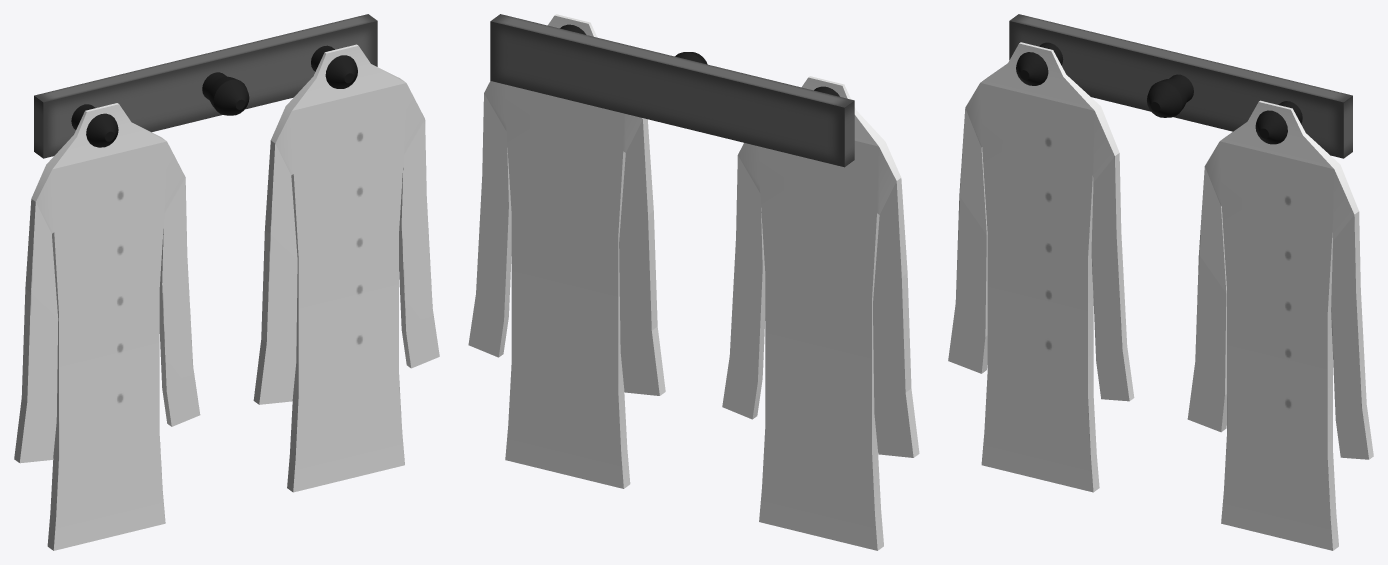
The model's file is kapstok met labjassen.fbx.
3 renders of one model, left to right at view 1: azimuth 30°, elevation 25°; view 2: azimuth 150°, elevation 25°; view 3: azimuth 330°, elevation 25°, orthographic. The views are drawn at different scales.
Visible parts, largest first — view 1: kapstok; view 2: kapstok; view 3: kapstok.
Boxes of the visible parts, x1,y1,x2,y2 form: kapstok: (14,14,439,550); kapstok: (468,14,919,550); kapstok: (948,14,1373,550).
Size of the model in its own units: 7.82 by 7.69 by 1.12.
1 material, 1 textured.
